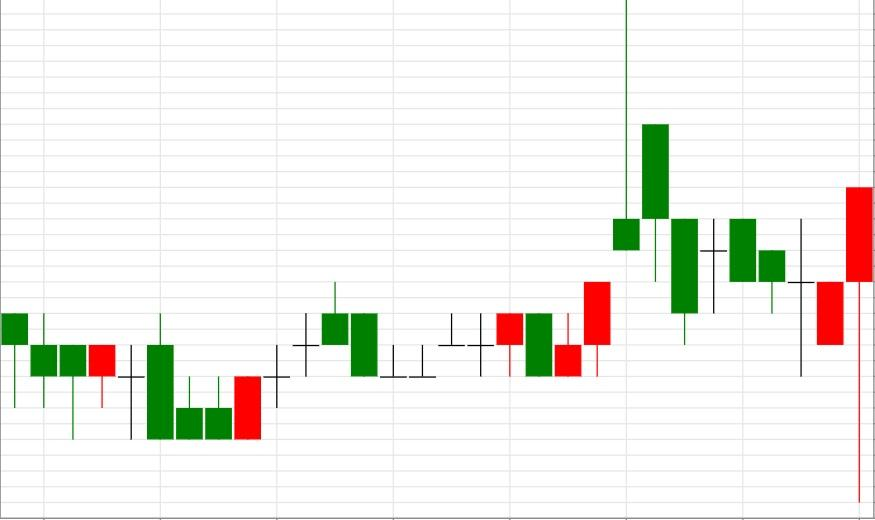bullish_engulfing_rise: (0, 312, 262, 441)
shooting_star_fall: (525, 0, 640, 376)
